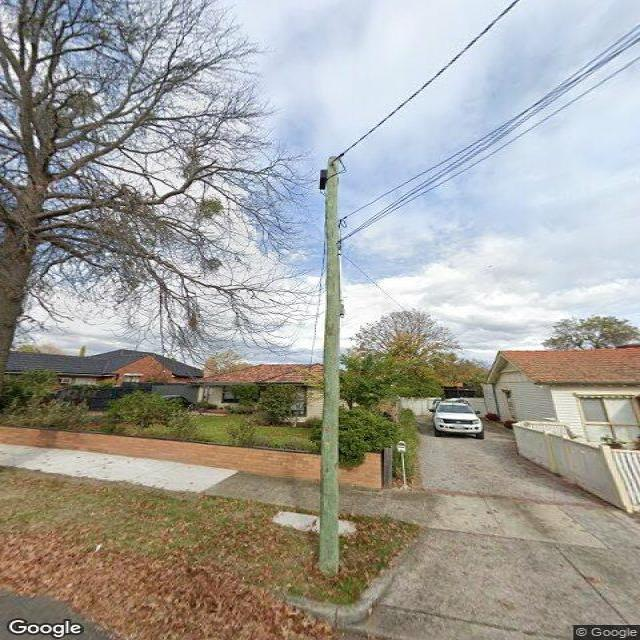timber-pole: (314, 156, 343, 574)
